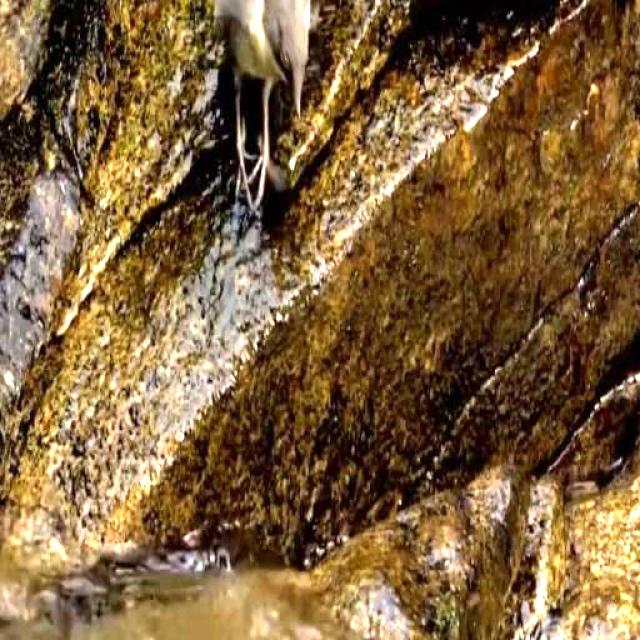airplane: (174, 0, 391, 272)
